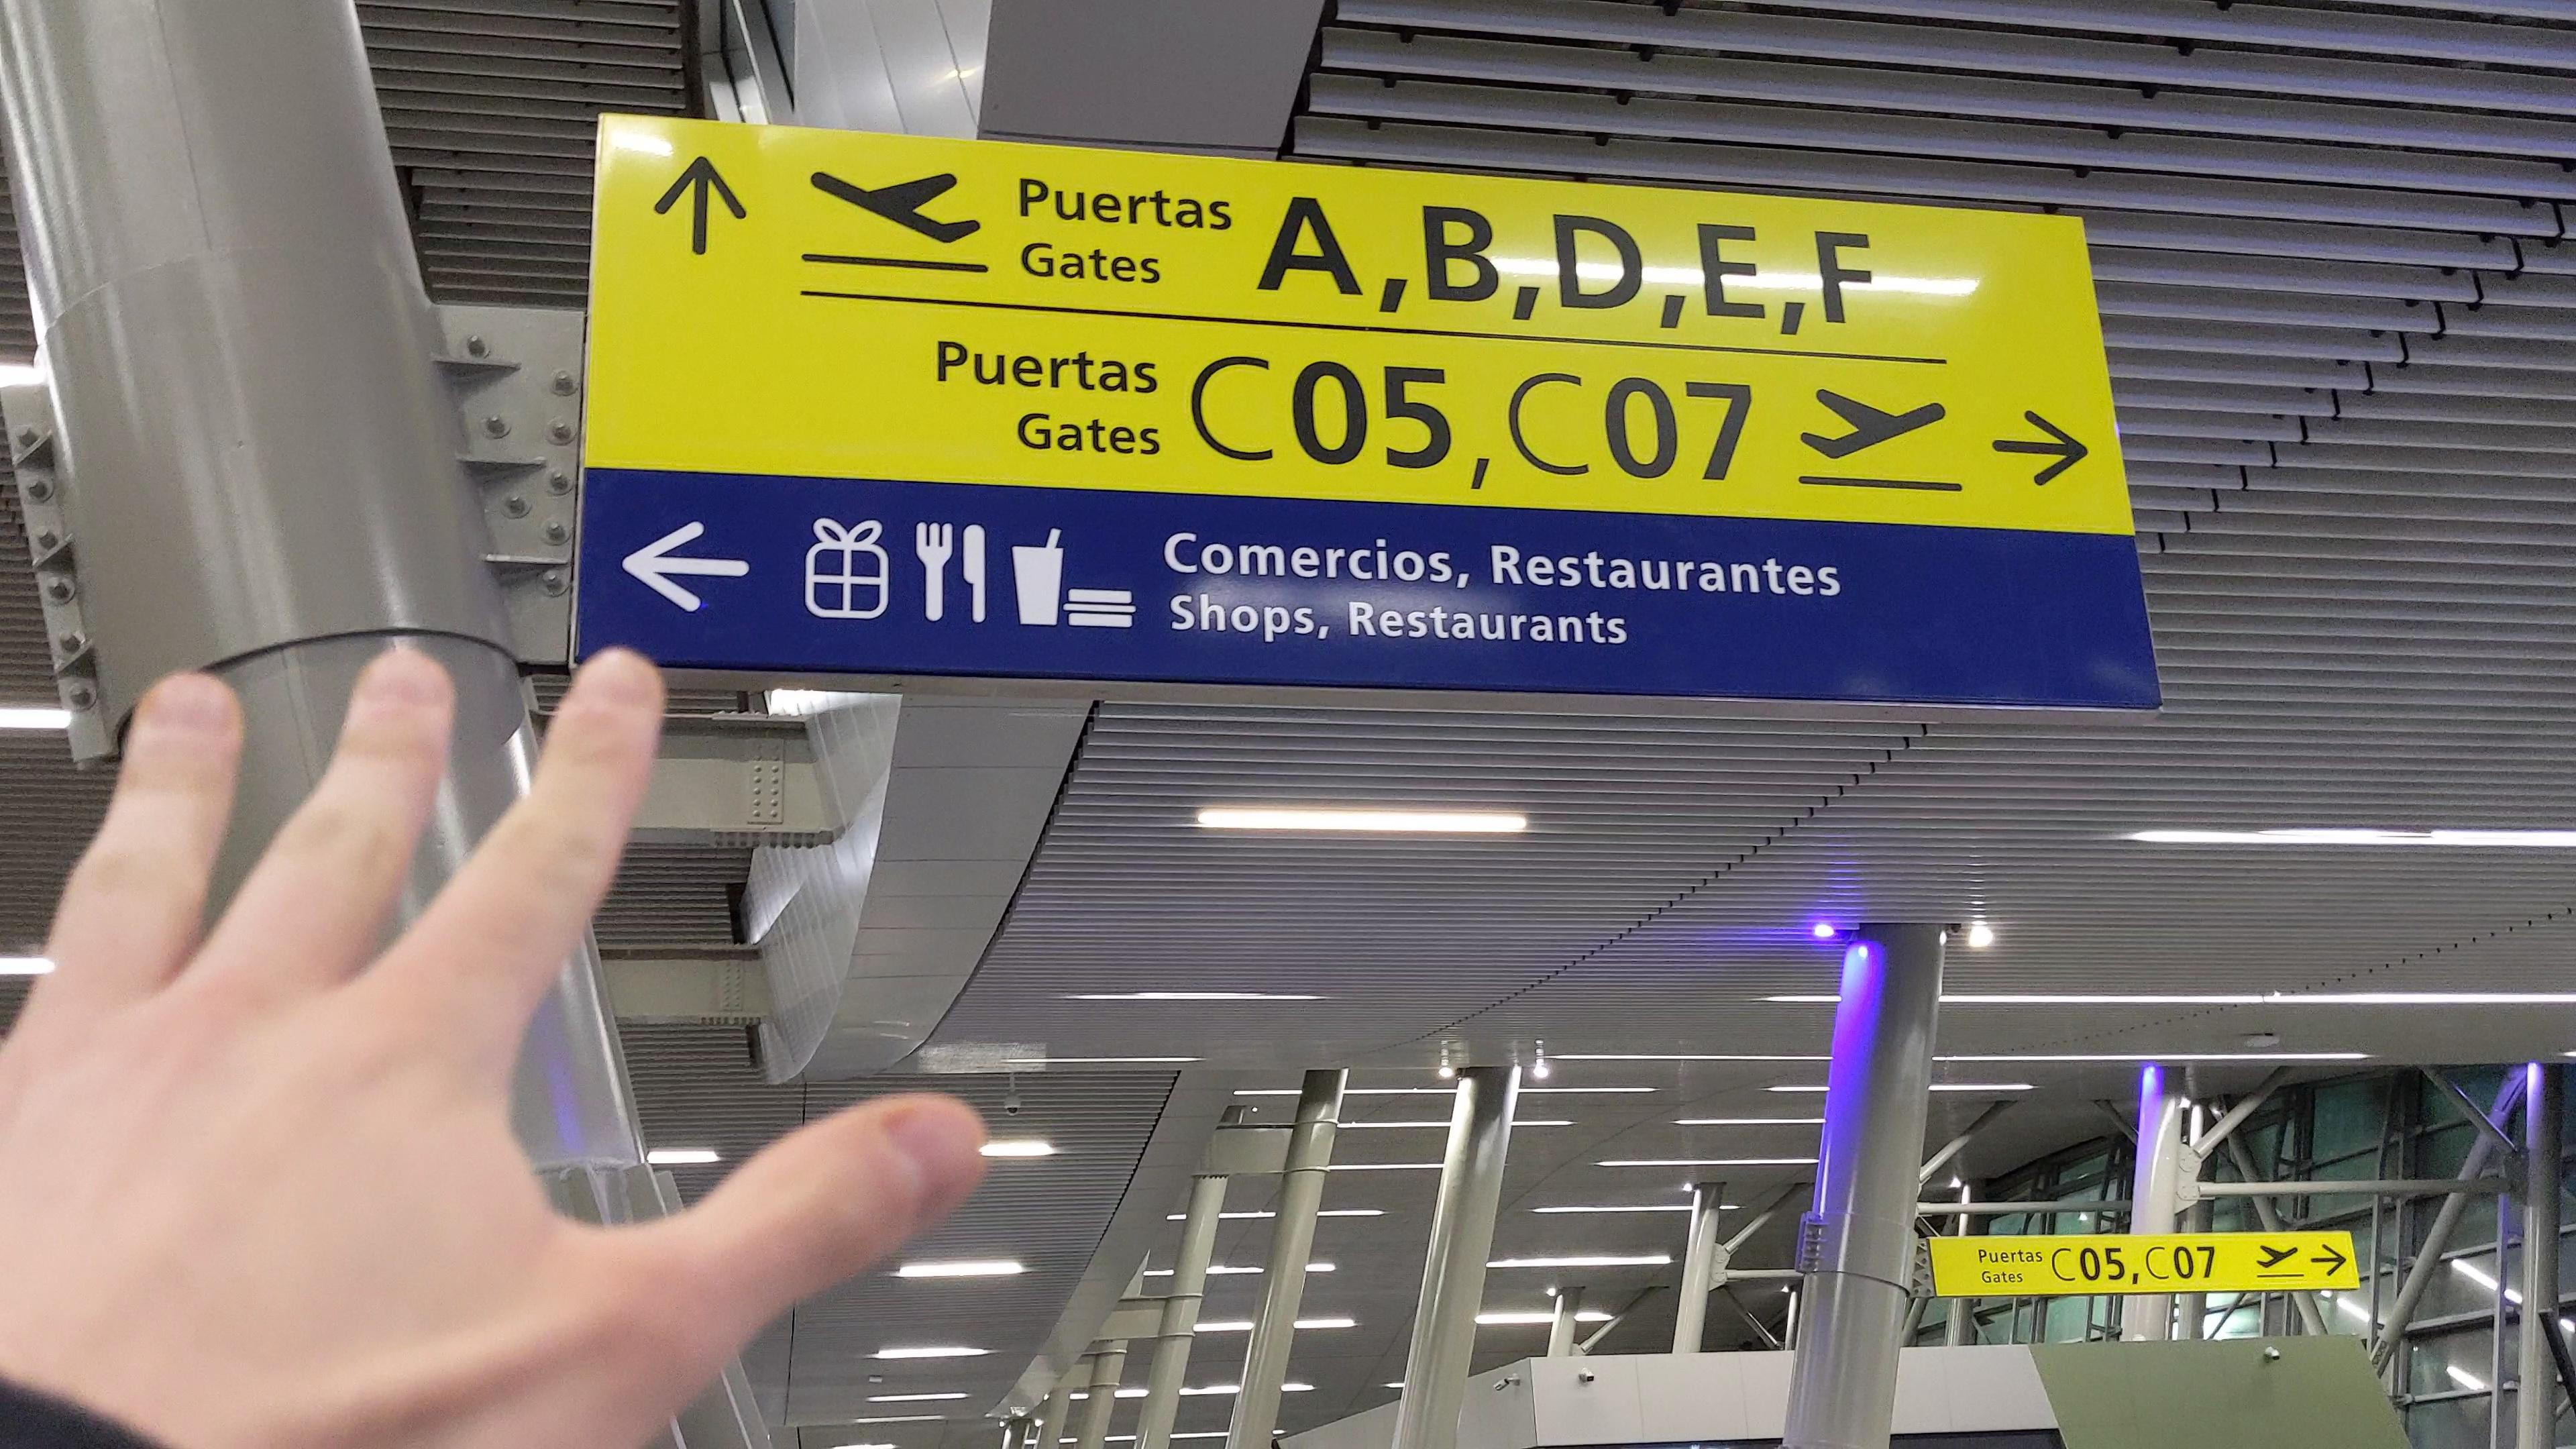airplane symbol: (806, 164, 983, 250), (1790, 382, 1960, 470), (2255, 1243, 2301, 1269)
restaurants: (912, 517, 999, 633)
thin left arrow: (618, 515, 766, 616)
thin right arrow: (1986, 409, 2096, 492), (2308, 1242, 2347, 1278)
thin up arrow: (651, 152, 752, 259)
